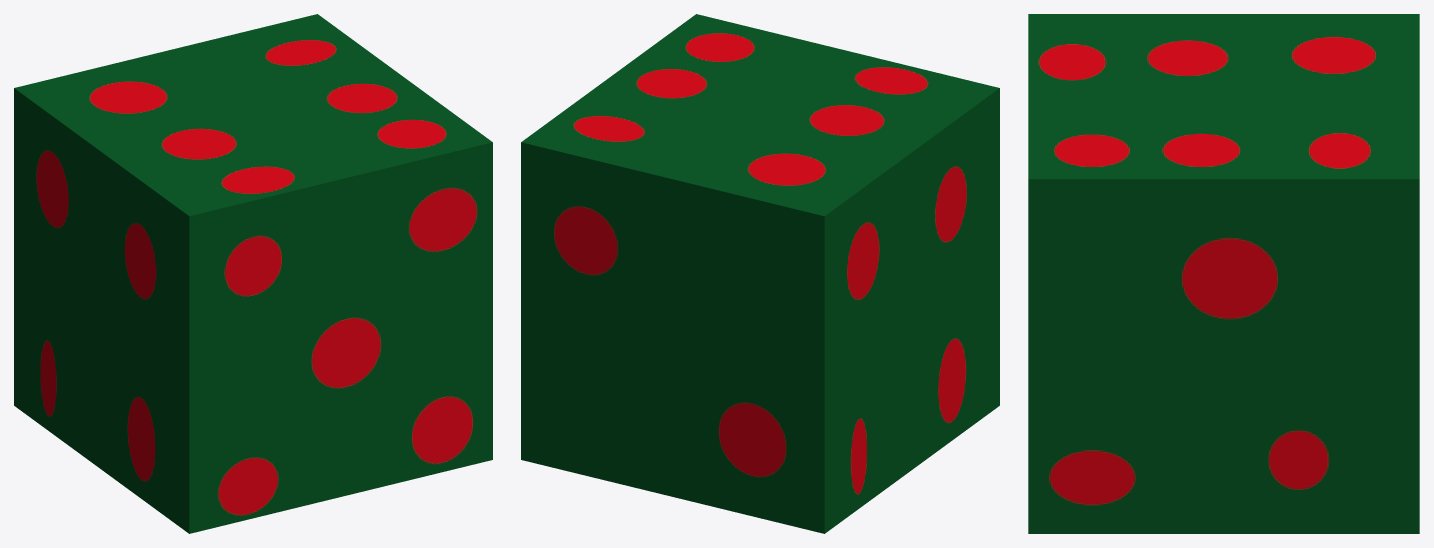
Rendered from Dice.fbx.
The picture shows the model from 3 angles, left to right: view 1: azimuth 30°, elevation 25°; view 2: azimuth 150°, elevation 25°; view 3: azimuth 270°, elevation 25°; orthographic projection. The views are drawn at different scales.
Parts seen in each view (by area): view 1: pCube3; view 2: pCube3; view 3: pCube3.
Part boxes in pixels (box(x1,y1,x2,y2)): pCube3: box(14, 14, 492, 533); pCube3: box(521, 14, 999, 533); pCube3: box(1028, 14, 1419, 533).
Size of the model in its own units: 1 by 1 by 1.
1 material, 1 textured.
